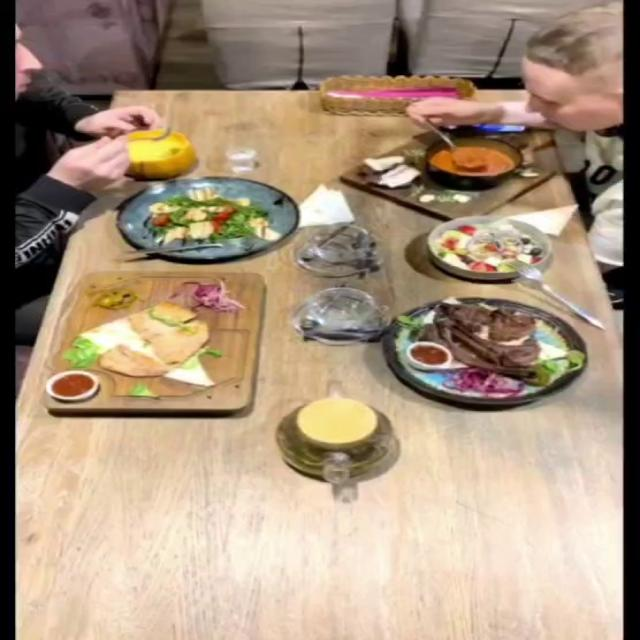alcohol: (210, 126, 267, 180)
meat: (379, 296, 589, 405)
salat: (113, 177, 296, 260), (426, 213, 554, 280)
soup: (338, 127, 560, 220), (122, 129, 197, 178)
tea: (273, 396, 396, 482)
